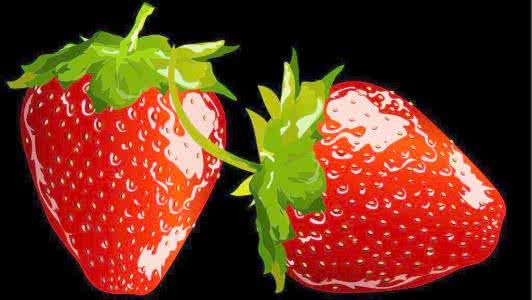strawberry: (250, 62, 507, 290), (21, 18, 228, 293)
